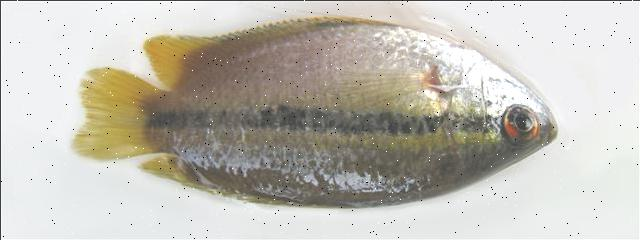Mulut: (530, 89, 566, 163)
Sirip Anal: (126, 21, 222, 108)
Sirip Dada: (316, 56, 442, 122)
Sirip Ekor: (66, 62, 164, 174)
Sirip Perut: (390, 0, 490, 64)
Sirip Punggung: (128, 152, 240, 218)
